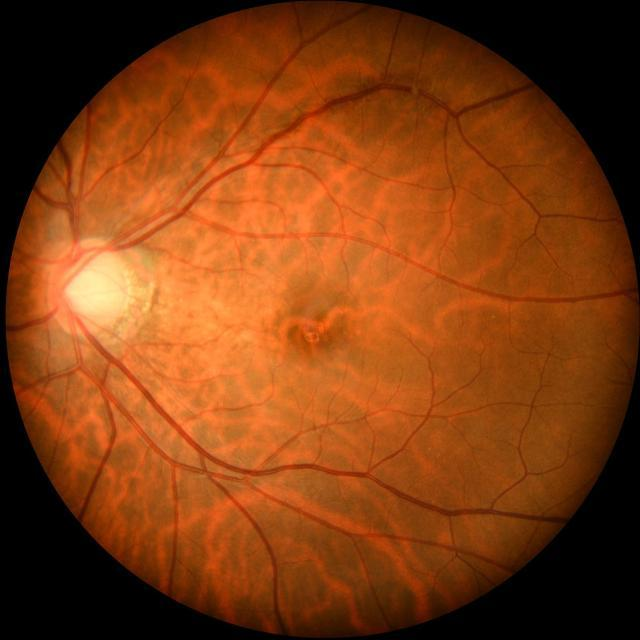OC: (64, 261, 119, 320)
OD: (48, 240, 127, 334)
